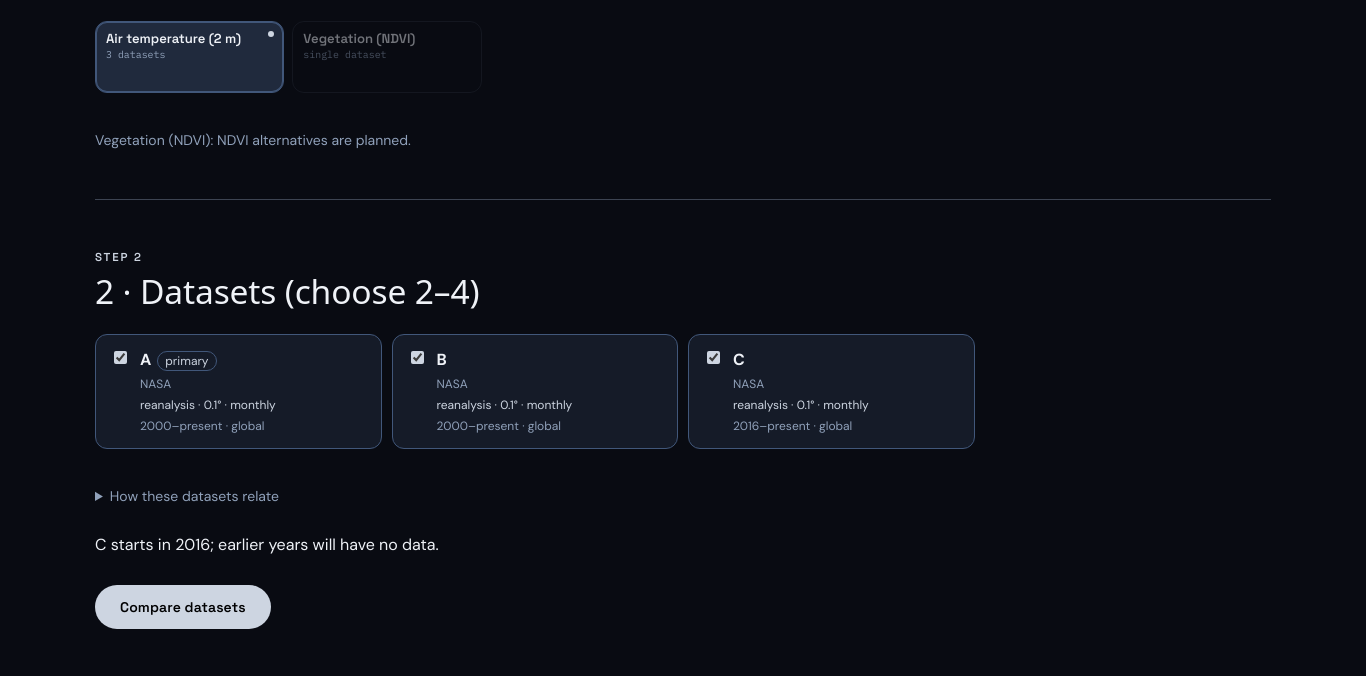
it: Compare datasets page › runs a comparison with partial failure and switches to an individual dataset
(page scrolled)
Check: the text "Vegetation (NDVI): NDVI alternatives are planned." is shown, box x1=95 y1=131 x2=411 y2=149
Check: the radio button labelled "Vegetation (NDVI) single dataset" is disabled, box x1=292 y1=21 x2=482 y2=93
Click the button "Compare datasets" at (183, 607), box x1=95 y1=585 x2=271 y2=629
(page scrolled)
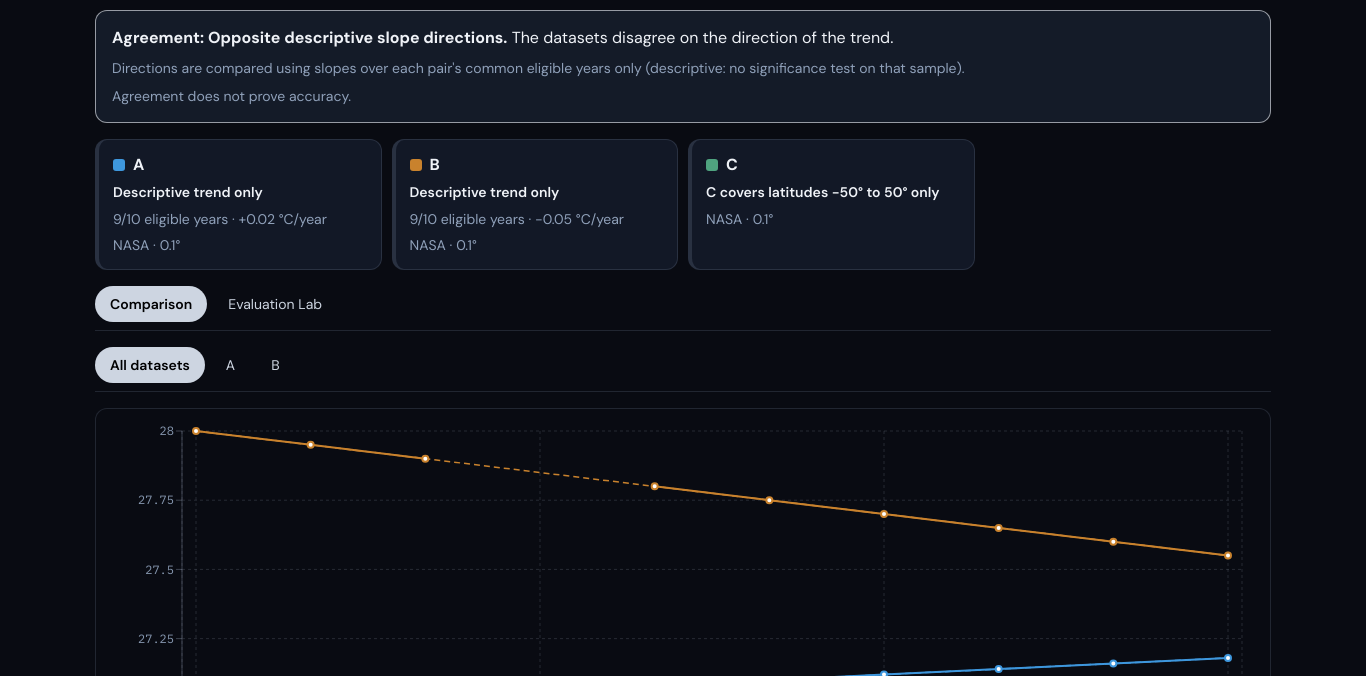
Check: the text "Agreement: Opposite descriptive slope directions." is shown, box x1=112 y1=27 x2=507 y2=48
Check: the element named "C: C covers latitudes" is shown, box x1=688 y1=139 x2=974 y2=270
Click the tab "B" at (275, 365), box x1=256 y1=347 x2=295 y2=383
(page scrolled)
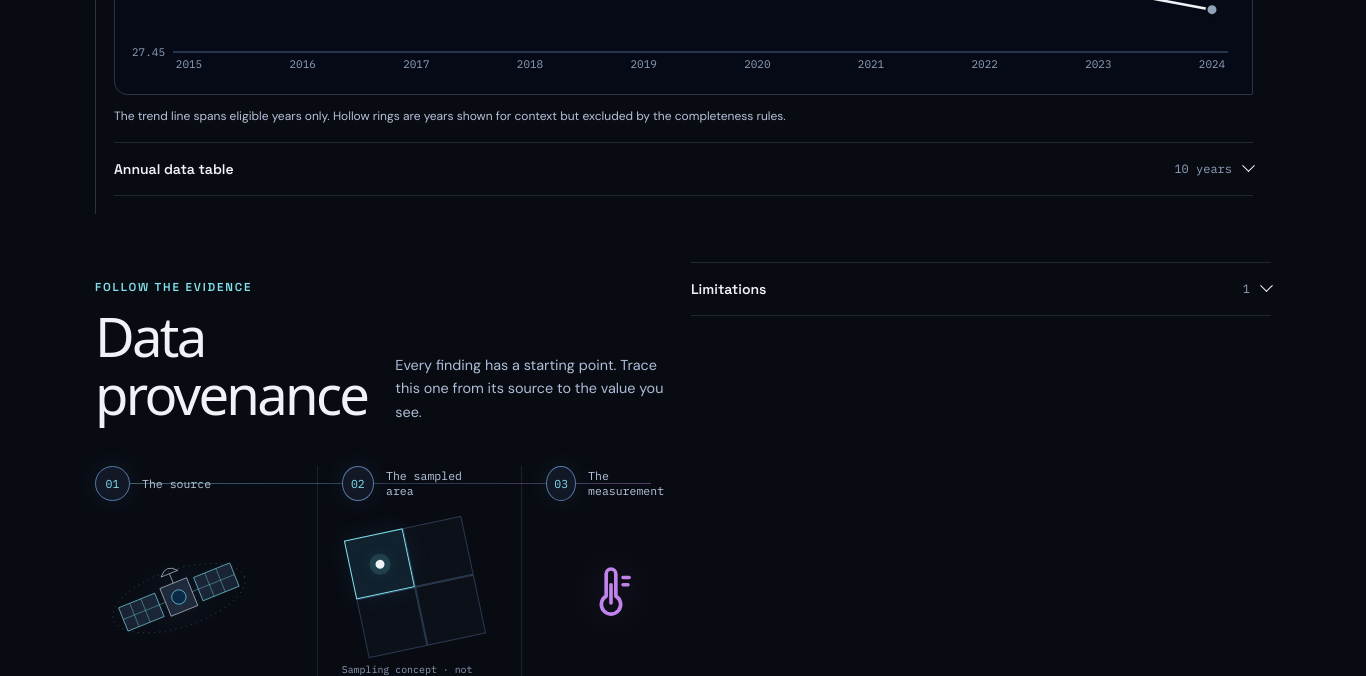
Check: the heading "Data provenance" is shown, box x1=95 y1=308 x2=367 y2=424
